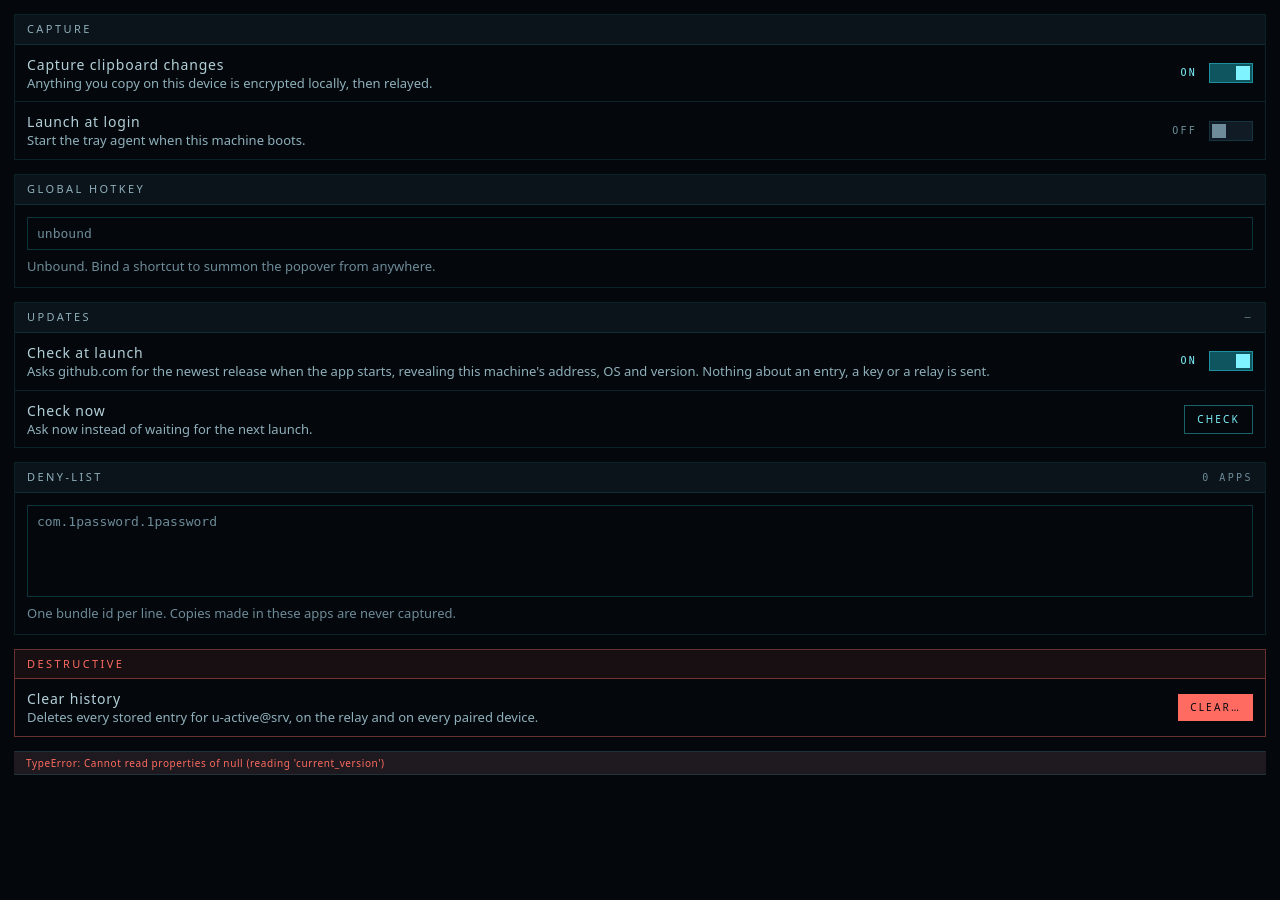
Test: SettingsSection › surfaces a clear-history failure in the error line
Click the button with test id "clear-history" at {"x": 1216, "y": 708}, box top-left (1178, 694), bottom-right (1253, 721)
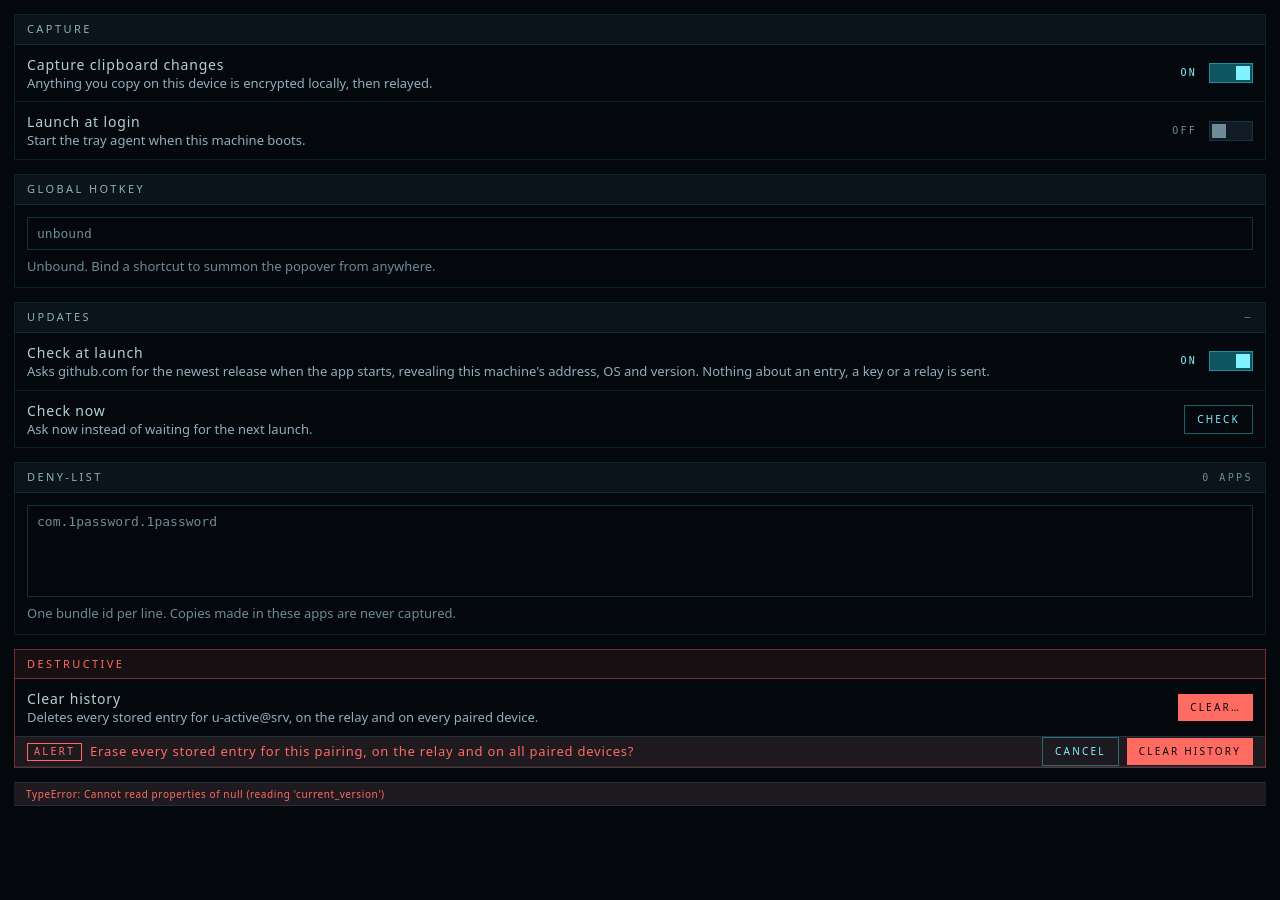
Click the button with test id "confirm-clear-history" at {"x": 1190, "y": 752}, box top-left (1127, 738), bottom-right (1253, 765)
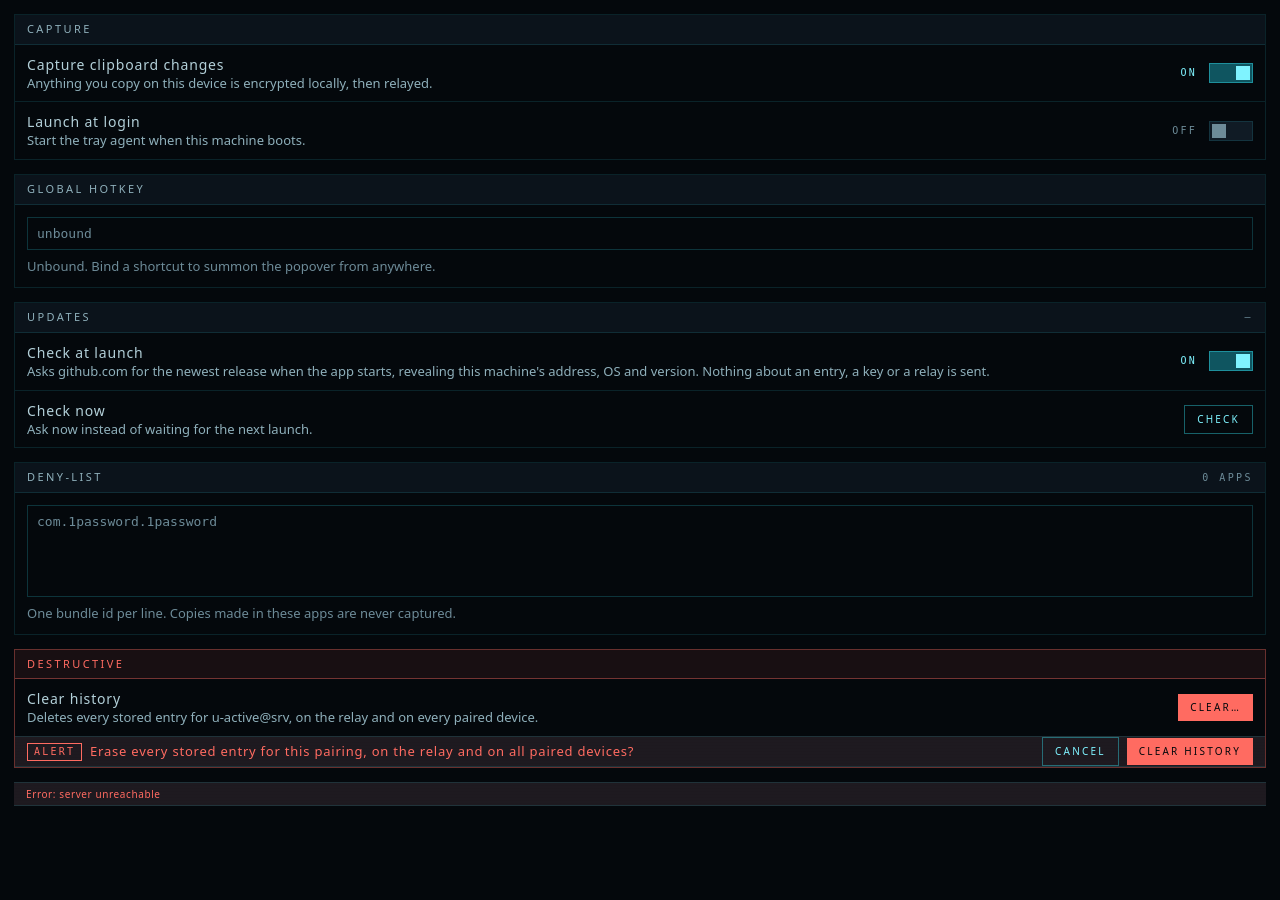
Expected: the text "Error: server unreachable" is shown, top-left (26, 787), bottom-right (161, 802)
